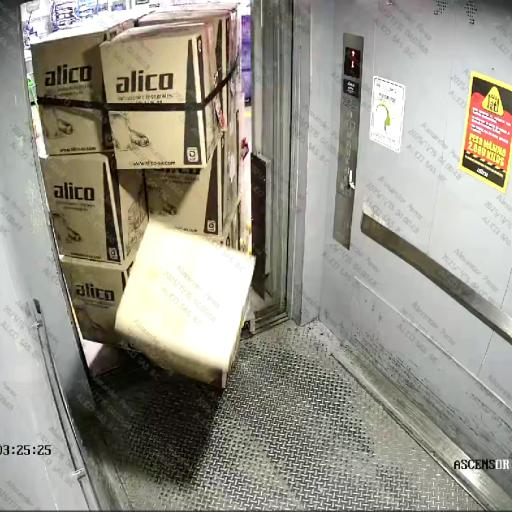Caja caida: (75, 113, 311, 450)
